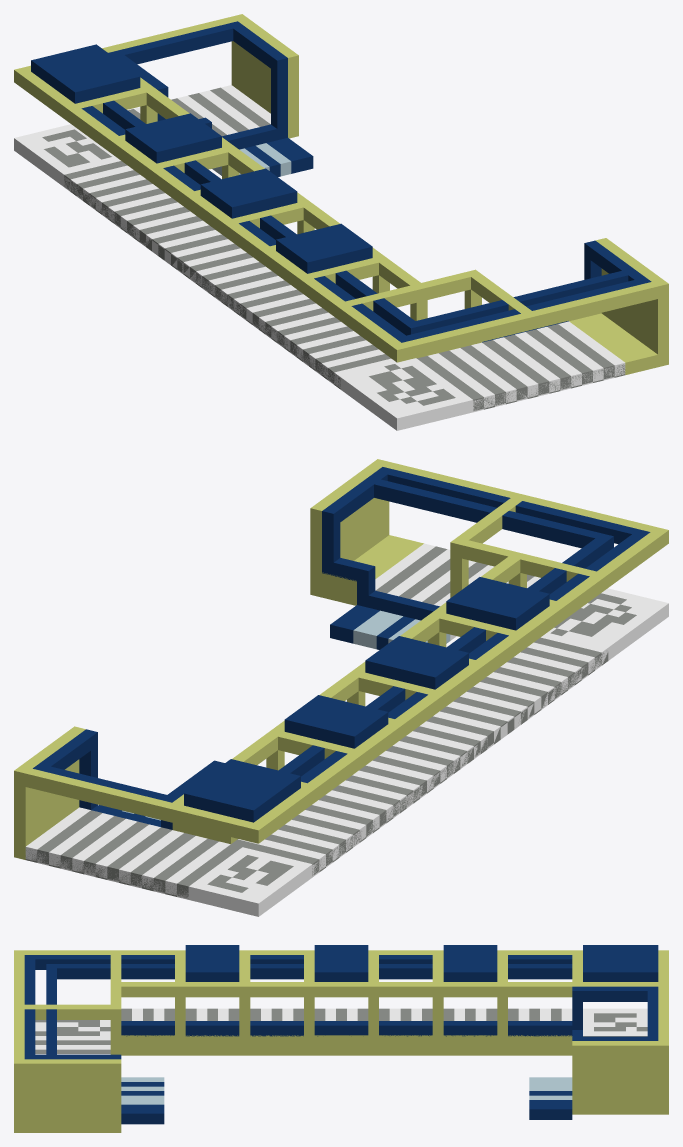
Rendered from segregate.gltf.
3 views of the same model, one above another, from view 1: azimuth 30°, elevation 25°; view 2: azimuth 150°, elevation 25°; view 3: azimuth 270°, elevation 25° (orthographic). The views are drawn at different scales.
Visible parts, largest first — view 1: Object_0.001, Object_0; view 2: Object_0.001, Object_0; view 3: Object_0.001, Object_0.
Boxes of the visible parts, x1,y1,x2,y2 form: Object_0.001: (14,14,668,429); Object_0: (14,30,668,430); Object_0.001: (14,459,668,915); Object_0: (14,476,668,916); Object_0.001: (14,945,668,1131); Object_0: (14,960,668,1132).
Size of the model in its own units: 2.5 by 0.91 by 6.1.
Materials: 2 (2 with a texture image).
